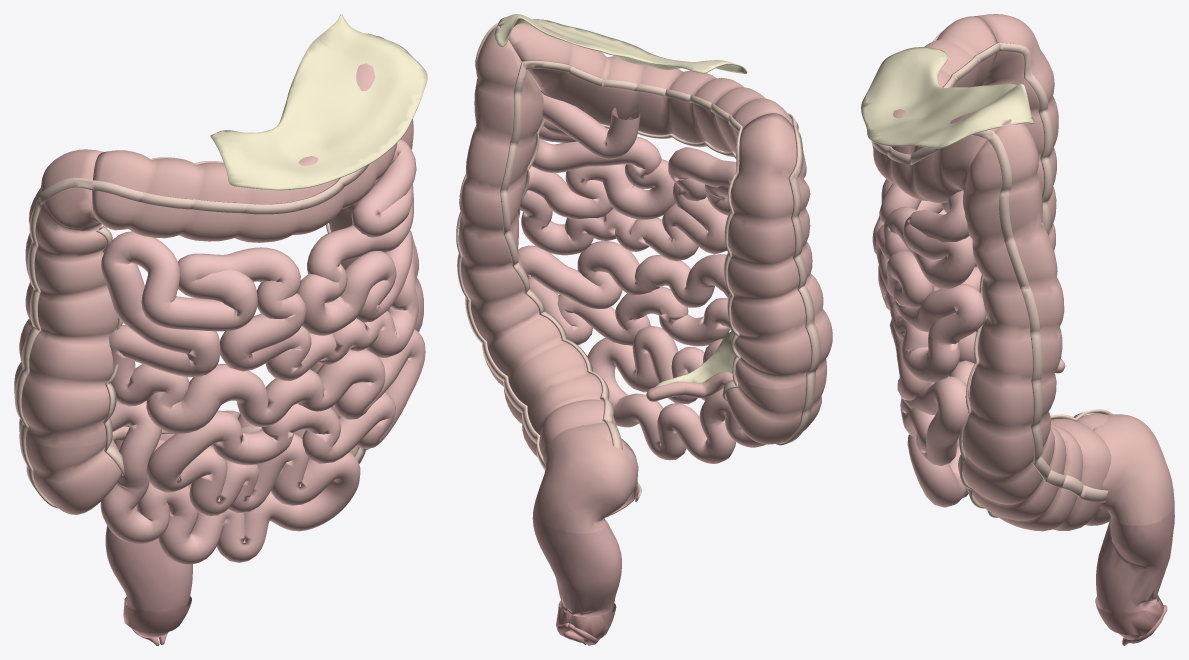
File: gi_lower_bowel.glb
3 renders of one model, left to right at view 1: azimuth 30°, elevation 25°; view 2: azimuth 150°, elevation 25°; view 3: azimuth 270°, elevation 25°, orthographic. The views are drawn at different scales.
Parts seen in each view (by area): view 1: GI_Ileum, GI_Jejunum, GI_Colon_Ascending, GI_Mesocolon, GI_Colon_Transverse, GI_Taeniae_Coli, GI_Cecum, GI_Rectum, GI_Colon_Descending, GI_Sphincter_Ani_Internus; view 2: GI_Ileum, GI_Colon_Descending, GI_Jejunum, GI_Colon_Ascending, GI_Colon_Transverse, GI_Taeniae_Coli, GI_Colon_Sigmoid, GI_Rectum, GI_Cecum, GI_Mesocolon, GI_Appendix, GI_Mesoappendix (+1 smaller); view 3: GI_Colon_Descending, GI_Jejunum, GI_Mesocolon, GI_Taeniae_Coli, GI_Ileum, GI_Colon_Transverse, GI_Colon_Sigmoid, GI_Rectum, GI_Colon_Ascending, GI_Sphincter_Ani_Internus.
Part boxes in pixels (x1=…): GI_Ileum: x1=100, y1=231, x2=425, y2=564; GI_Jejunum: x1=178, y1=139, x2=418, y2=380; GI_Colon_Ascending: x1=14, y1=149, x2=118, y2=448; GI_Mesocolon: x1=210, y1=14, x2=427, y2=190; GI_Colon_Transverse: x1=92, y1=35, x2=397, y2=242; GI_Taeniae_Coli: x1=14, y1=157, x2=369, y2=508; GI_Cecum: x1=19, y1=418, x2=121, y2=514; GI_Rectum: x1=105, y1=505, x2=192, y2=611; GI_Colon_Descending: x1=159, y1=119, x2=423, y2=487; GI_Sphincter_Ani_Internus: x1=123, y1=596, x2=191, y2=633; GI_Ileum: x1=518, y1=199, x2=766, y2=463; GI_Colon_Descending: x1=458, y1=25, x2=638, y2=517; GI_Jejunum: x1=520, y1=93, x2=739, y2=261; GI_Colon_Ascending: x1=727, y1=113, x2=832, y2=389; GI_Colon_Transverse: x1=498, y1=23, x2=792, y2=157; GI_Taeniae_Coli: x1=456, y1=22, x2=820, y2=502; GI_Colon_Sigmoid: x1=533, y1=425, x2=638, y2=533; GI_Rectum: x1=532, y1=515, x2=621, y2=616; GI_Cecum: x1=726, y1=367, x2=826, y2=444; GI_Mesocolon: x1=494, y1=14, x2=747, y2=73; GI_Appendix: x1=646, y1=371, x2=733, y2=401; GI_Mesoappendix: x1=655, y1=330, x2=735, y2=387; GI_Colon_Descending: x1=962, y1=119, x2=1111, y2=531; GI_Jejunum: x1=872, y1=179, x2=986, y2=382; GI_Mesocolon: x1=861, y1=47, x2=1034, y2=148; GI_Taeniae_Coli: x1=871, y1=30, x2=1112, y2=517; GI_Ileum: x1=890, y1=200, x2=981, y2=507; GI_Colon_Transverse: x1=872, y1=16, x2=1010, y2=203; GI_Colon_Sigmoid: x1=1093, y1=414, x2=1174, y2=525; GI_Rectum: x1=1096, y1=502, x2=1174, y2=612; GI_Colon_Ascending: x1=975, y1=14, x2=1058, y2=266; GI_Sphincter_Ani_Internus: x1=1095, y1=595, x2=1163, y2=636.
Size of the model in its own units: 0.2292 by 0.347 by 0.1586.
